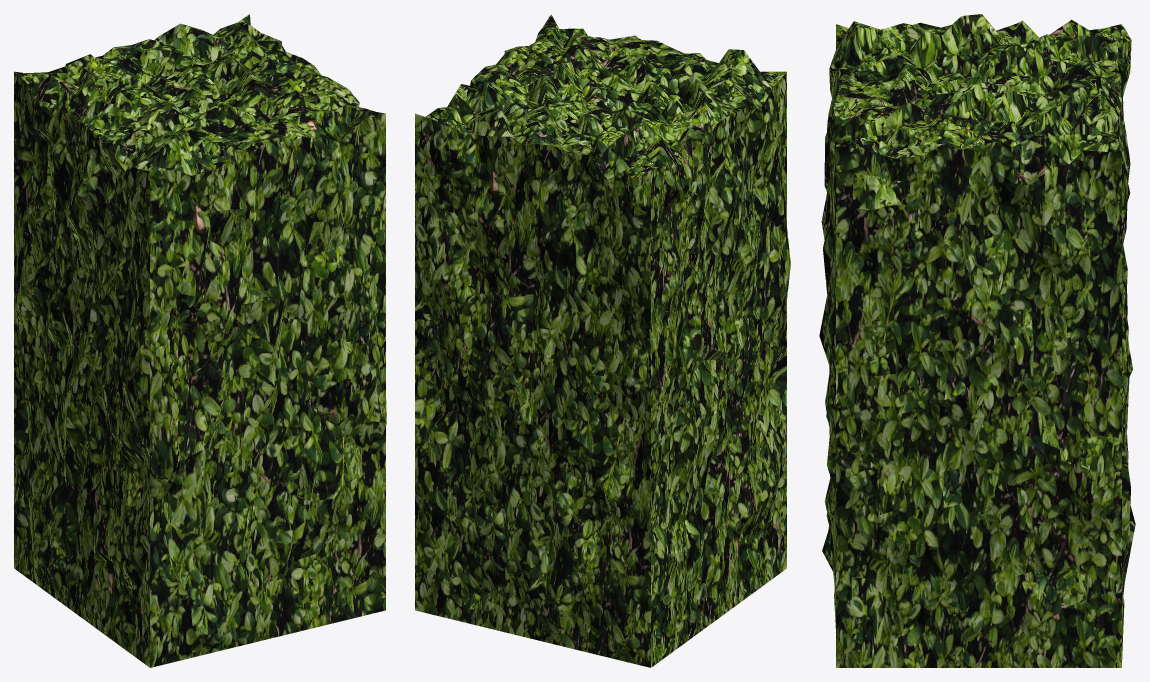
Rendered from hedgeSingle.obj.
3 views of the same model, side by side, from view 1: azimuth 30°, elevation 25°; view 2: azimuth 150°, elevation 25°; view 3: azimuth 270°, elevation 25° (orthographic). The views are drawn at different scales.
Visible parts, largest first — view 1: Cube_Cube.001; view 2: Cube_Cube.001; view 3: Cube_Cube.001.
Part boxes in pixels (x1,y1,x2,y2): Cube_Cube.001: [14, 14, 386, 667]; Cube_Cube.001: [415, 14, 790, 667]; Cube_Cube.001: [819, 14, 1135, 667].
Size of the model in its own units: 1.1 by 2.08 by 1.1.
Materials: 2 (1 with a texture image).
